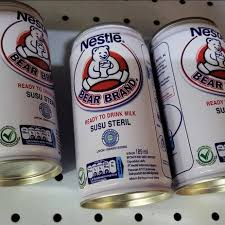Bear Brand Susu Steril (189ml): (65, 29, 150, 210), (154, 11, 224, 190), (0, 4, 59, 175)
